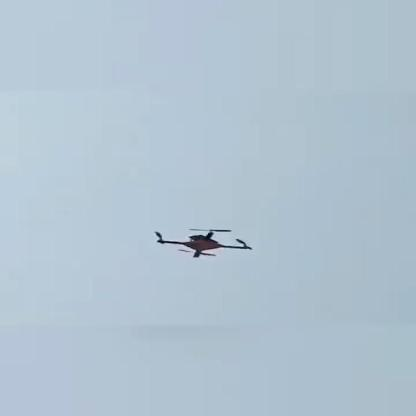drone: (148, 224, 262, 261)
